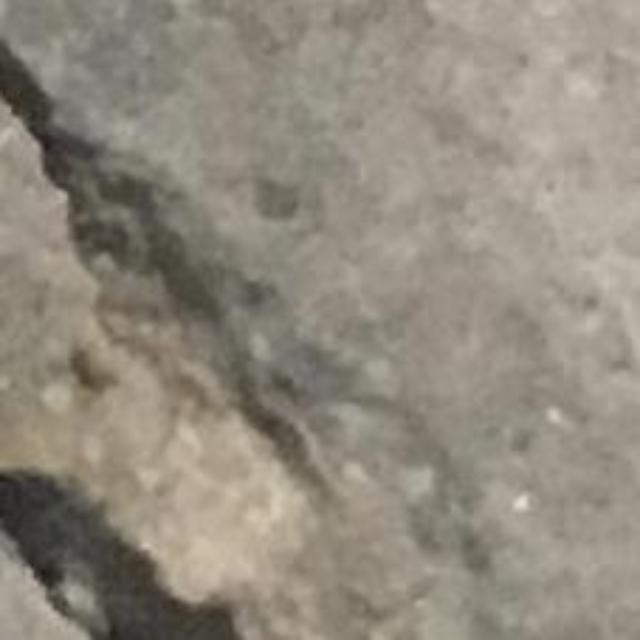crack: (0, 40, 307, 462)
